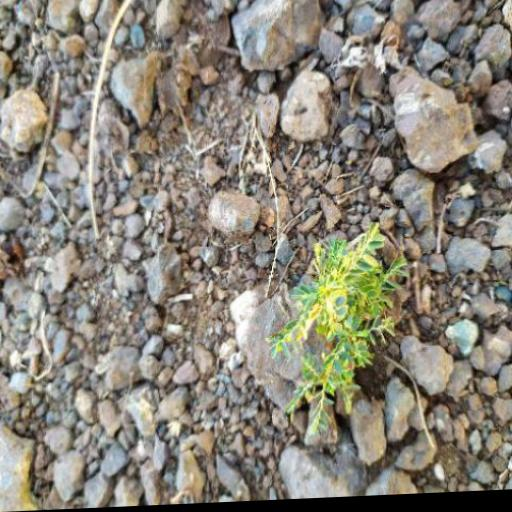weed: (272, 230, 415, 430)
